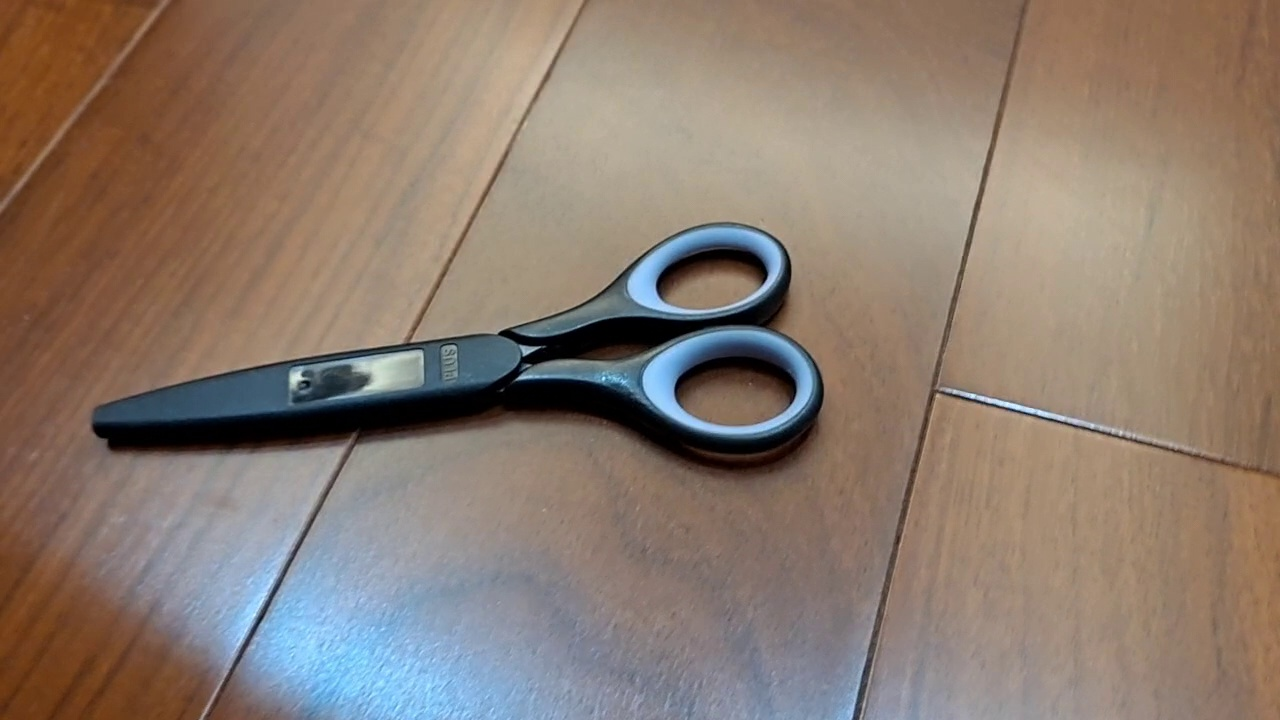scissors: (89, 219, 825, 458)
